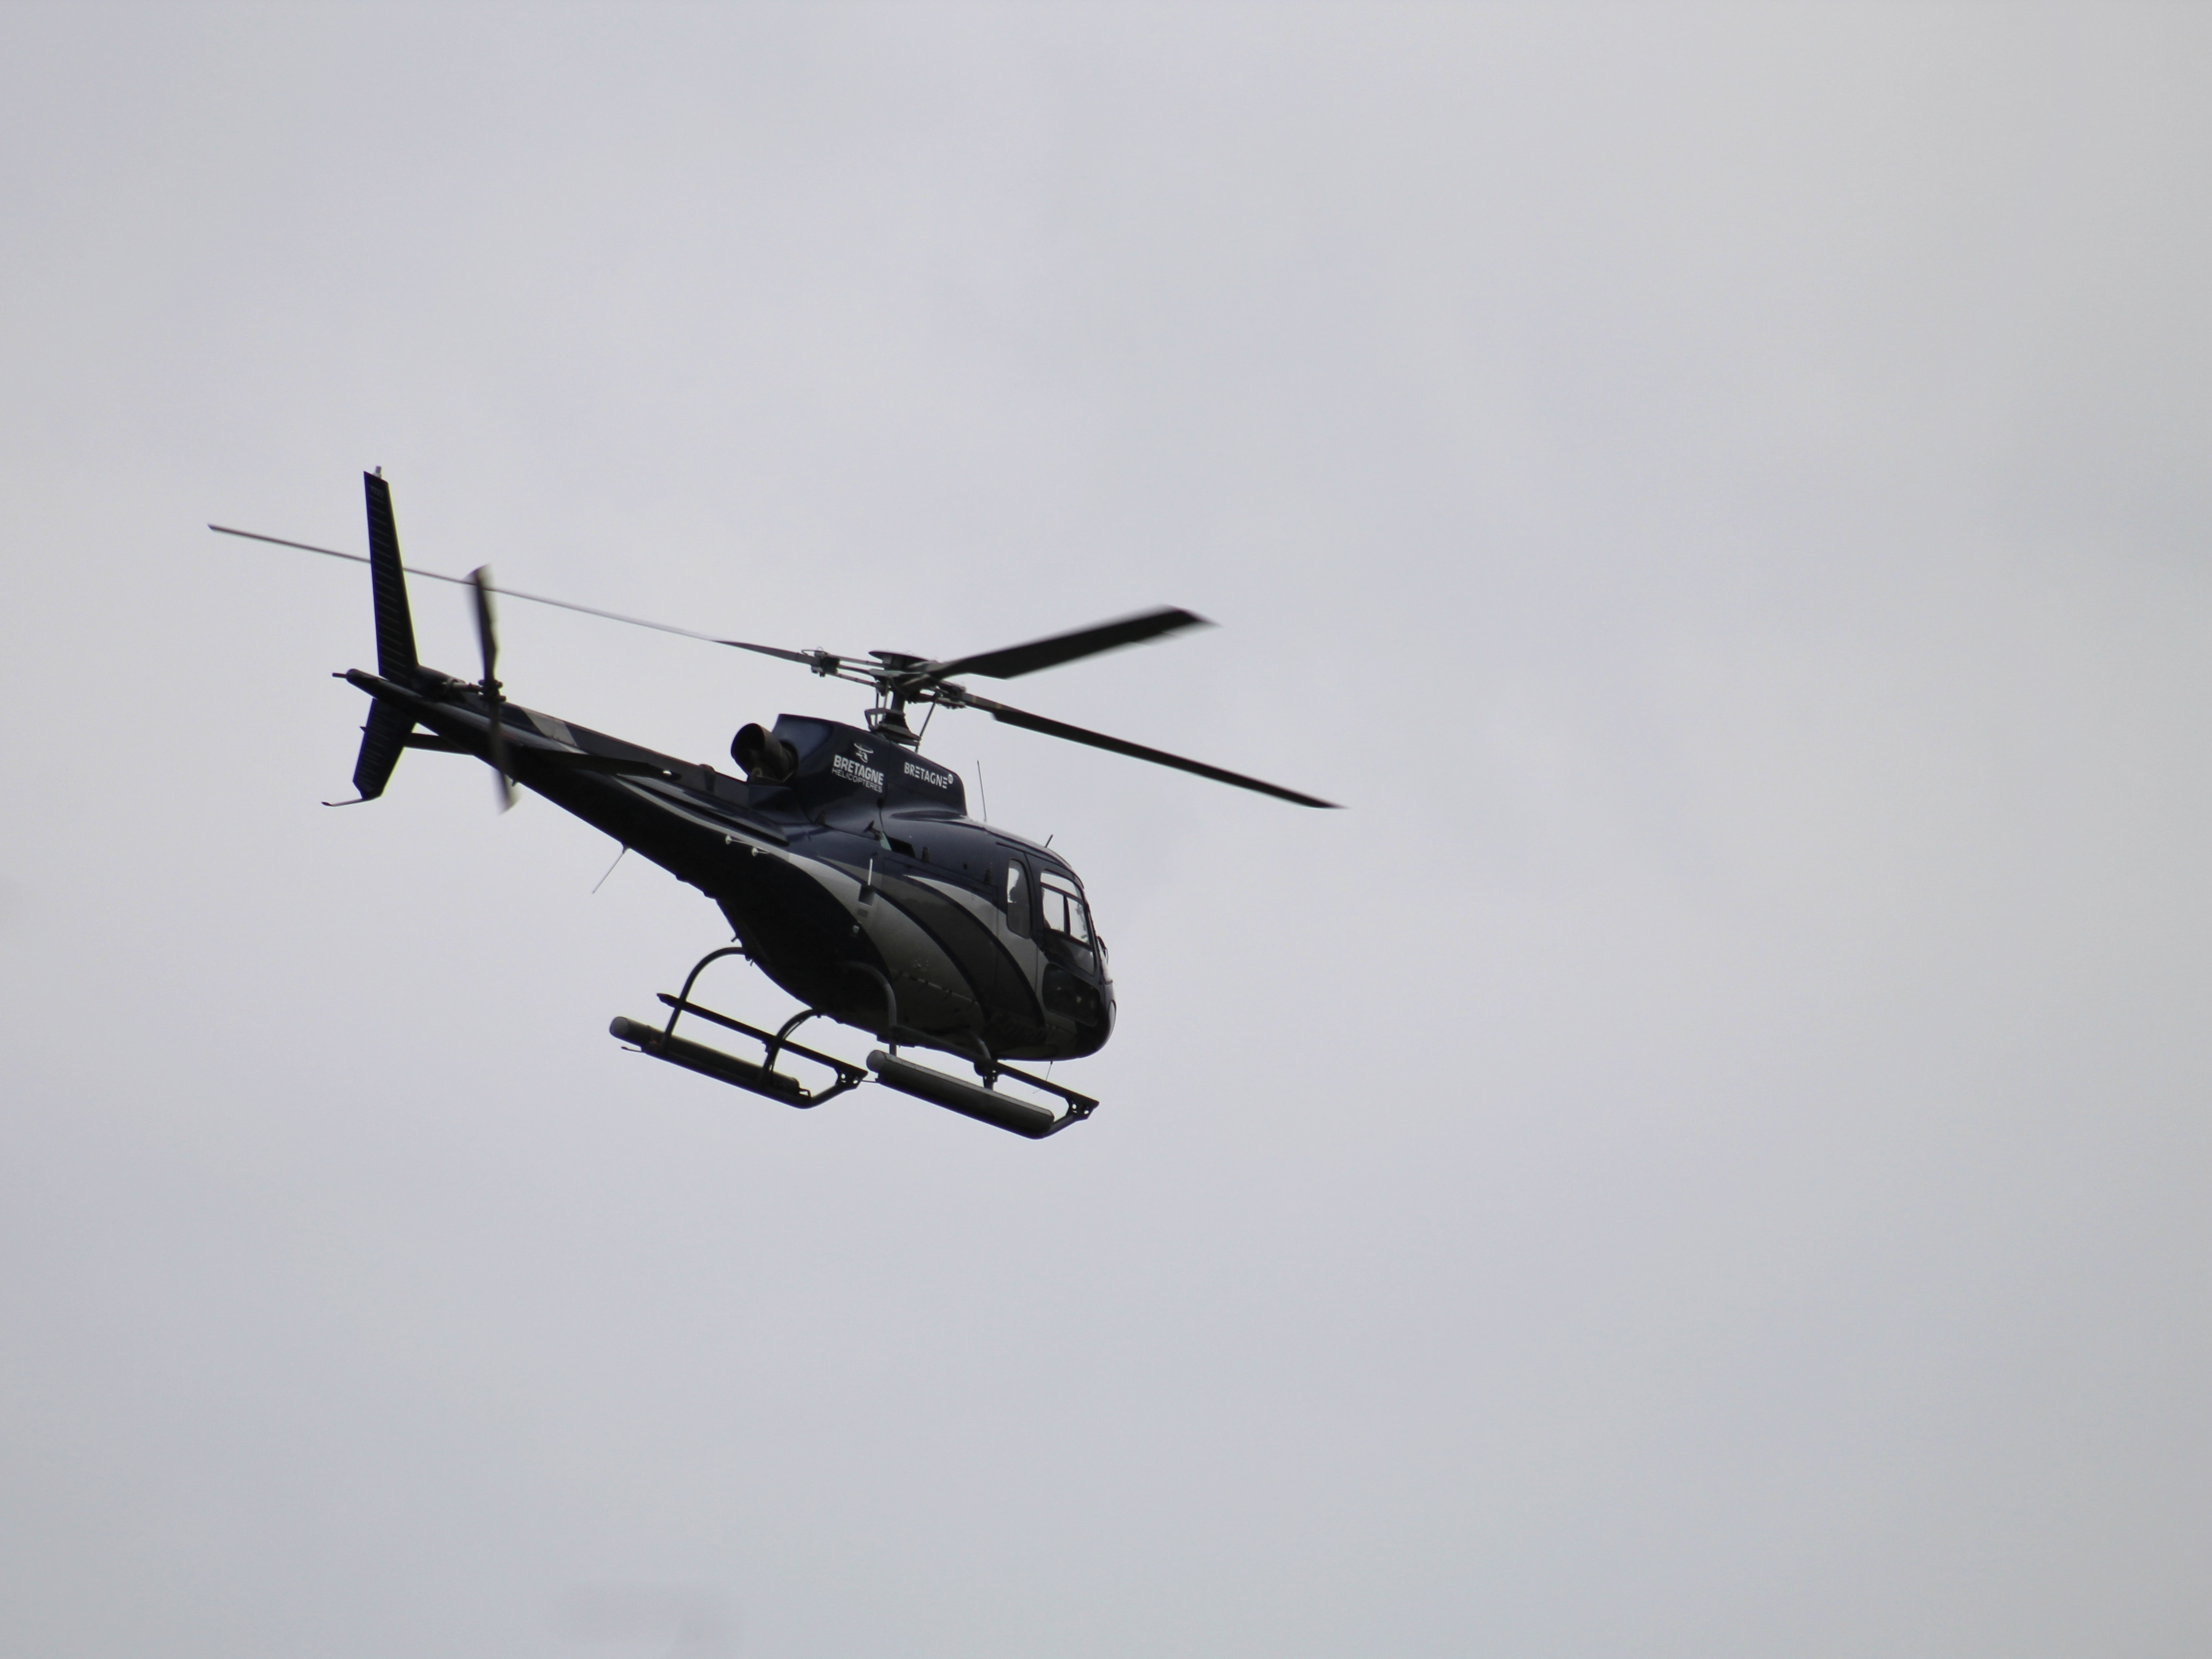helicopter: (158, 340, 1484, 1267)
